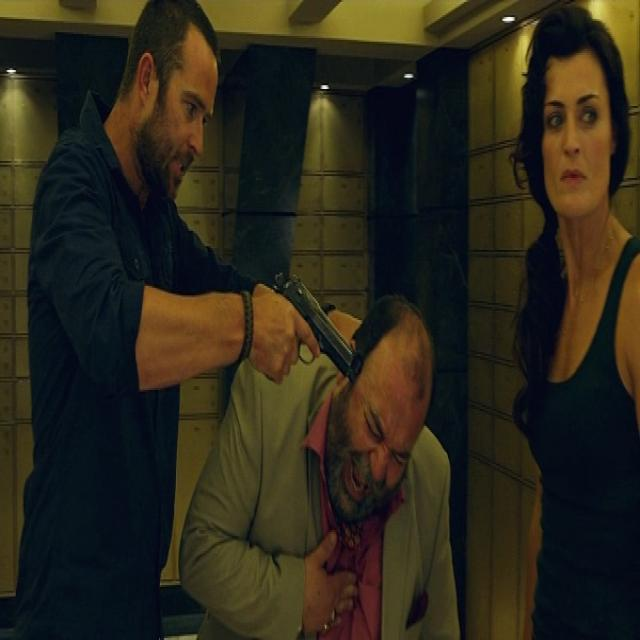weapons: (255, 243, 363, 400)
